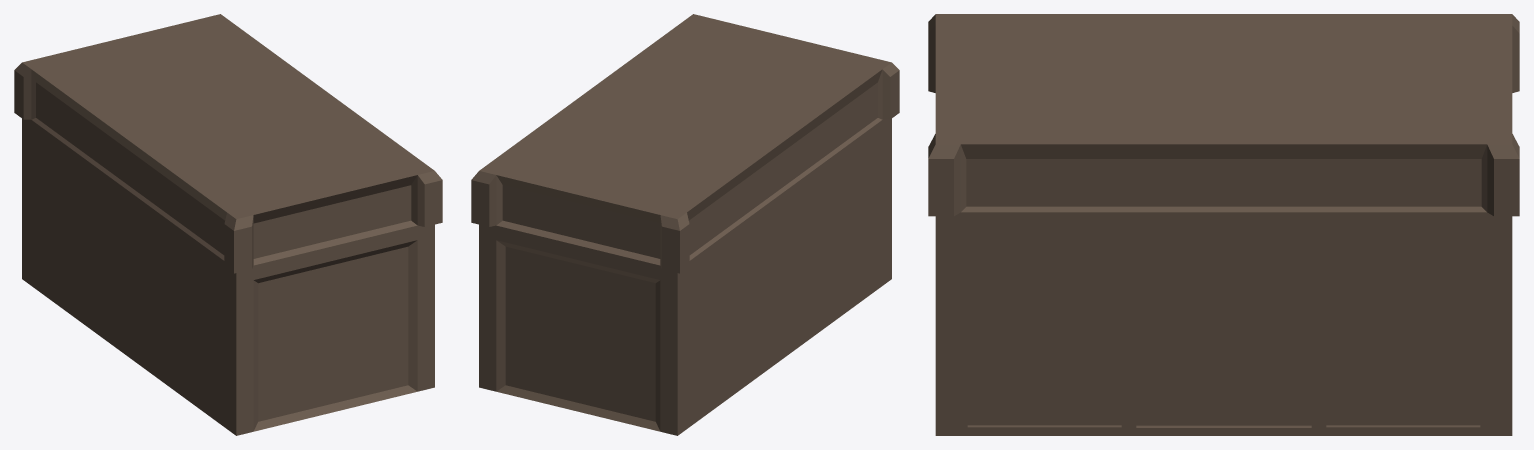
Rendered from PaintingCabinet.fbx.
3 views of the same model, side by side, from view 1: azimuth 30°, elevation 25°; view 2: azimuth 150°, elevation 25°; view 3: azimuth 270°, elevation 25° (orthographic). The views are drawn at different scales.
Parts seen in each view (by area): view 1: pCube152; view 2: pCube152; view 3: pCube152.
Part boxes in pixels (left/top/right/bottom): pCube152: left=14, top=14, right=442, bottom=435; pCube152: left=471, top=14, right=899, bottom=435; pCube152: left=928, top=14, right=1519, bottom=435.
Size of the model in its own units: 66.82 by 66.3 by 122.
